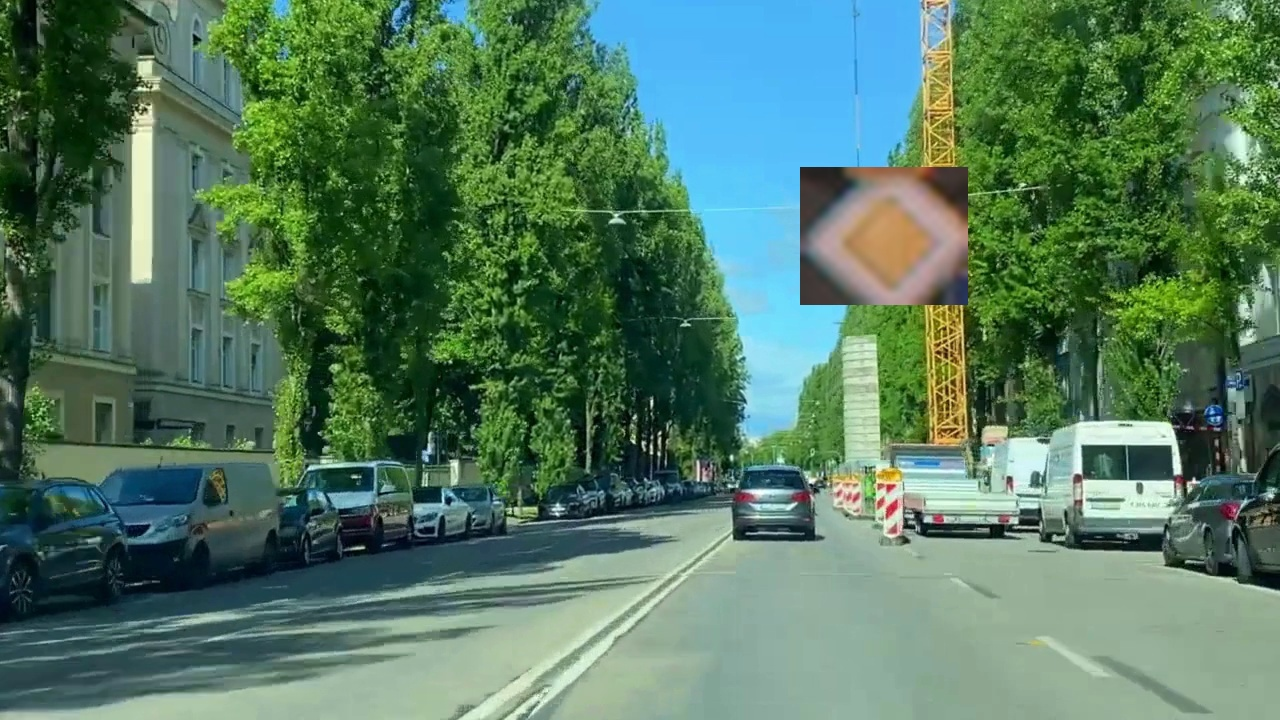Priority road: (800, 167, 968, 305)
